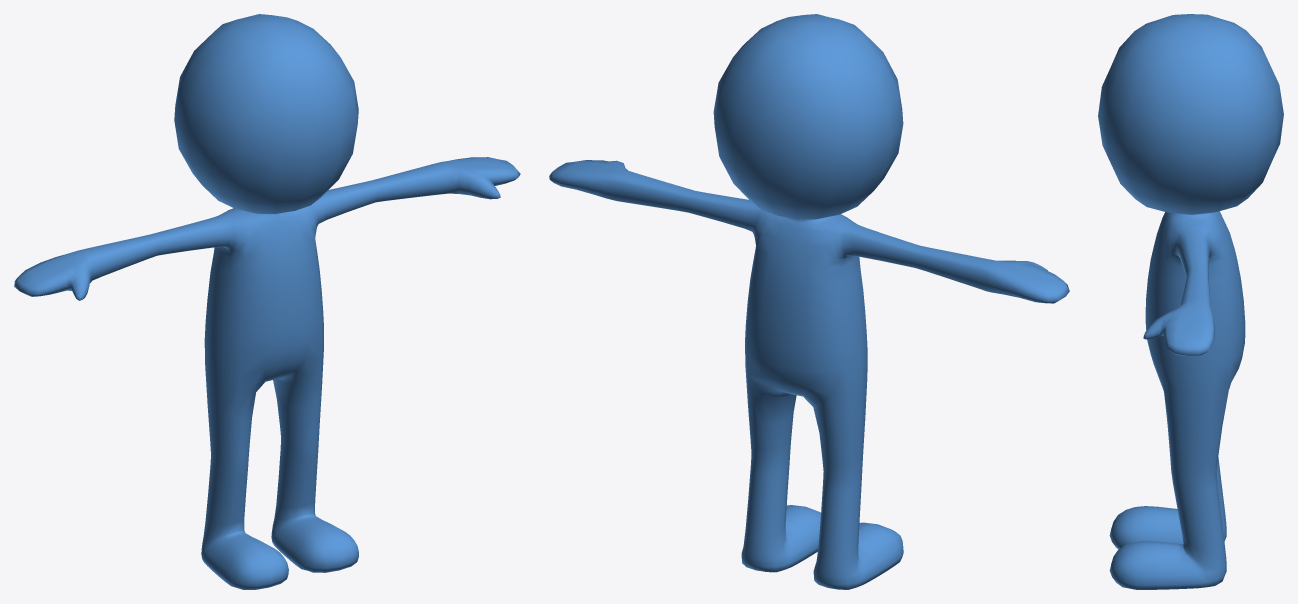
Rendered from StickMan 03.fbx.
3 views of the same model, side by side, from view 1: azimuth 30°, elevation 25°; view 2: azimuth 150°, elevation 25°; view 3: azimuth 270°, elevation 25° (orthographic). The views are drawn at different scales.
Parts seen in each view (by area): view 1: Character; view 2: Character; view 3: Character.
Part boxes in pixels (box(x1,y1,x2,y2)): Character: box(14, 14, 520, 589); Character: box(549, 14, 1069, 589); Character: box(1098, 14, 1283, 589).
Bounding box in the file's own units: 110 × 112 × 35.
